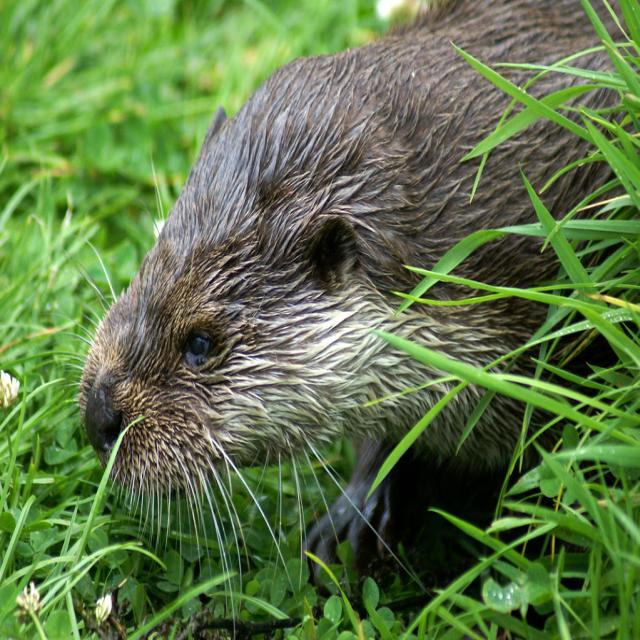otter: (83, 18, 571, 509)
